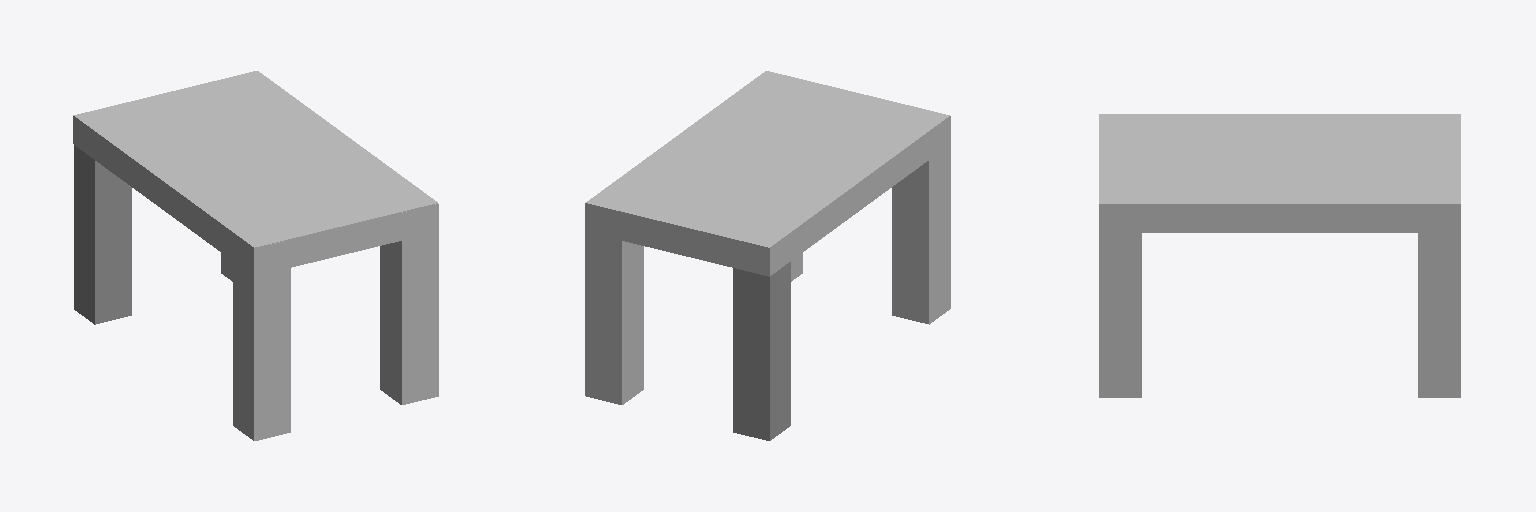
The model's file is tafel2.obj.
The picture shows the model from 3 angles: view 1: azimuth 30°, elevation 25°; view 2: azimuth 150°, elevation 25°; view 3: azimuth 270°, elevation 25°; orthographic projection.
Parts seen in each view (by area): view 1: Cube.009, Cube.001, Cube.008, Cube; view 2: Cube.009, Cube, Cube.007, Cube.001; view 3: Cube.009, Cube.008, Cube.007.
Part boxes in pixels (left/top/right/bottom): Cube.009: left=73, top=71, right=437, bottom=275; Cube.001: left=233, top=240, right=290, bottom=440; Cube.008: left=380, top=204, right=438, bottom=404; Cube: left=74, top=145, right=131, bottom=324; Cube.009: left=585, top=71, right=950, bottom=276; Cube: left=733, top=262, right=790, bottom=440; Cube.007: left=585, top=232, right=643, bottom=404; Cube.001: left=892, top=144, right=950, bottom=324; Cube.009: left=1099, top=114, right=1460, bottom=232; Cube.008: left=1099, top=205, right=1141, bottom=397; Cube.007: left=1418, top=205, right=1460, bottom=397.
Size of the model in its own units: 2 by 2.01 by 3.4.